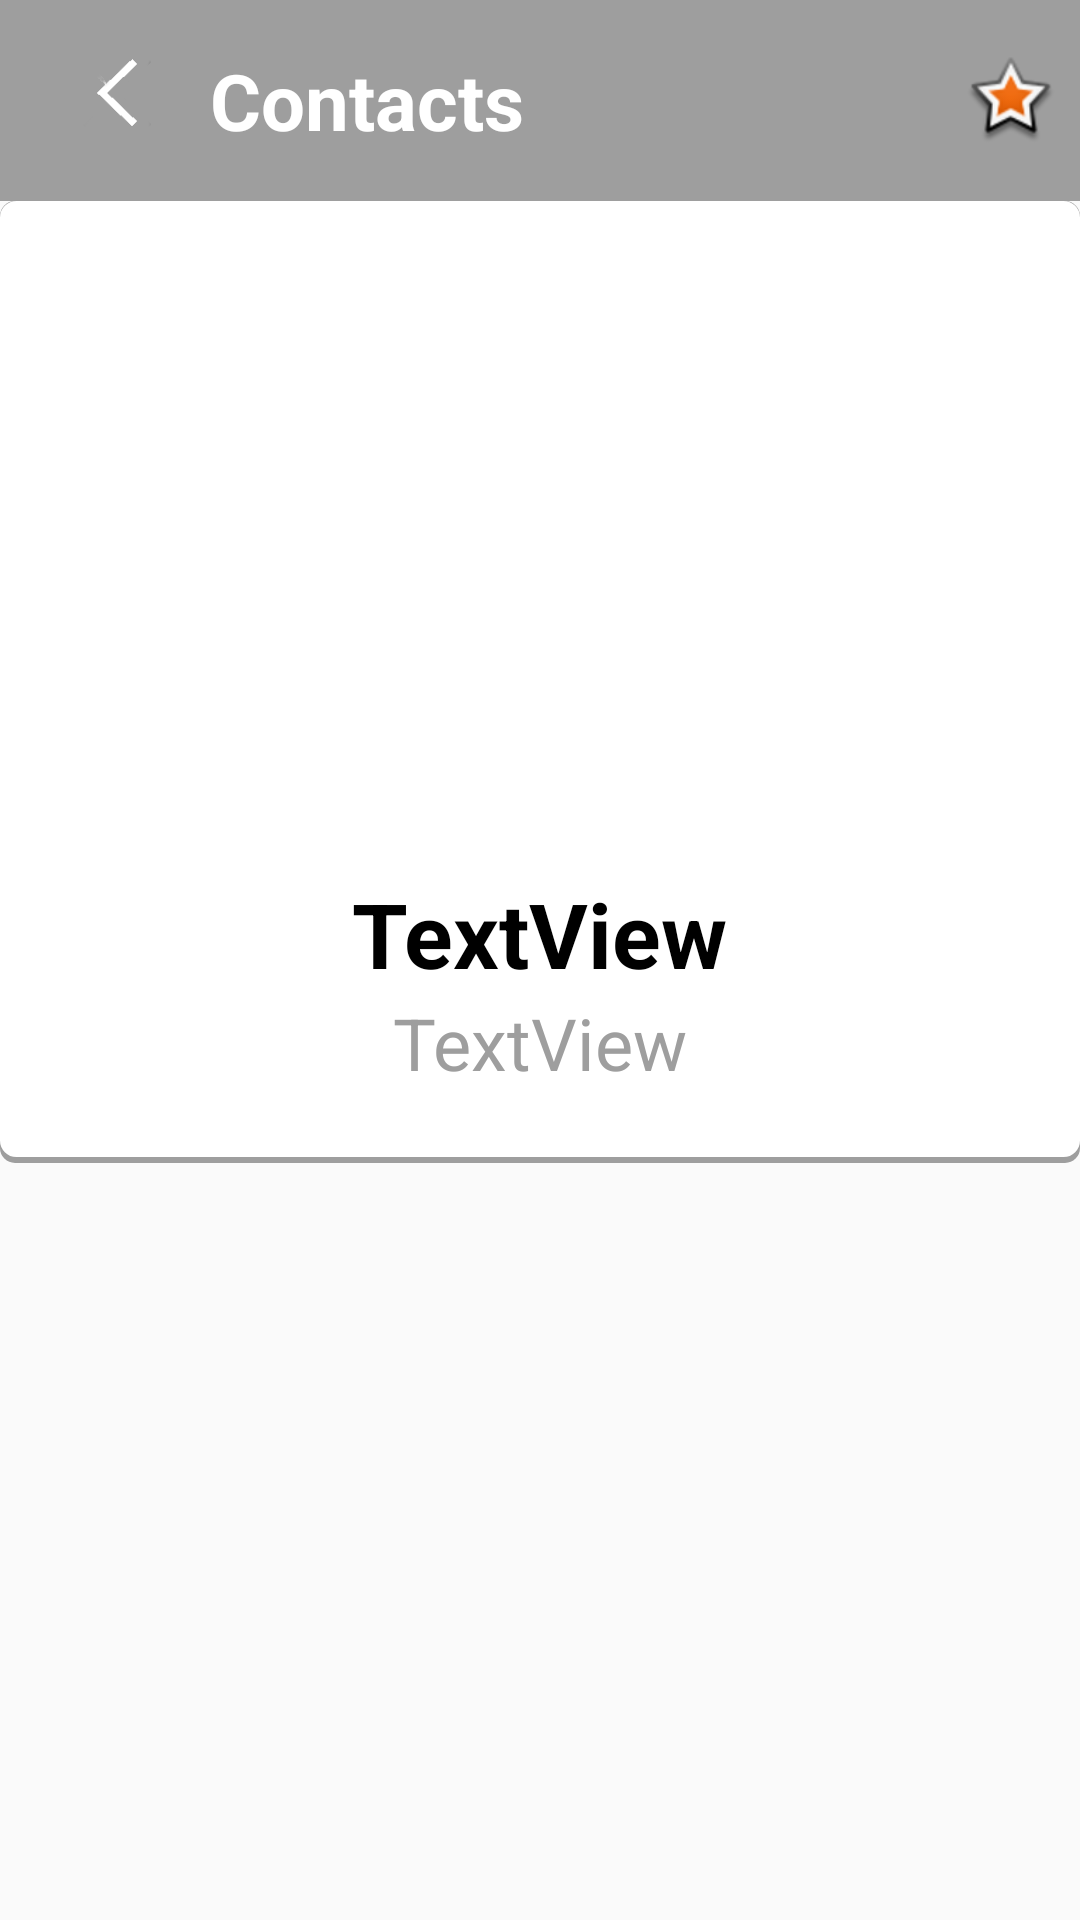

Where icons sit on this 1080 x 1920 app screen, as [x1=x1, y1=y1, x2=x2, y2=y2]:
left: [x1=97, y1=59, x2=137, y2=126]
star on: [x1=971, y1=59, x2=1050, y2=138]
